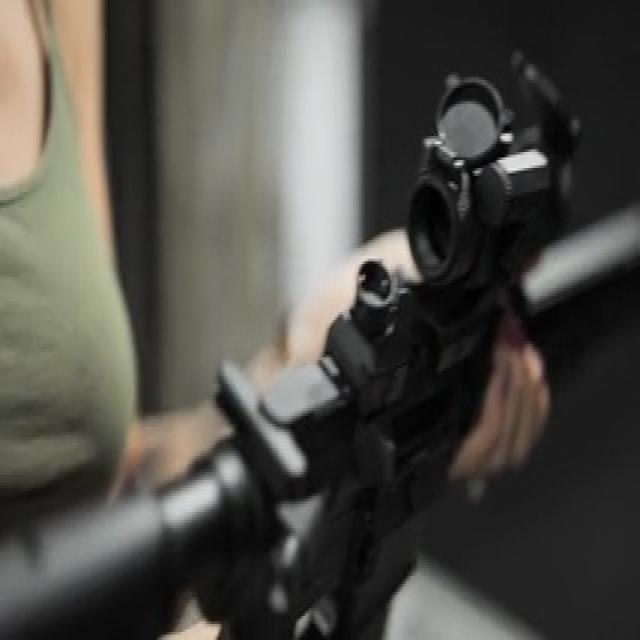Gun_Holder: (123, 32, 640, 637)
